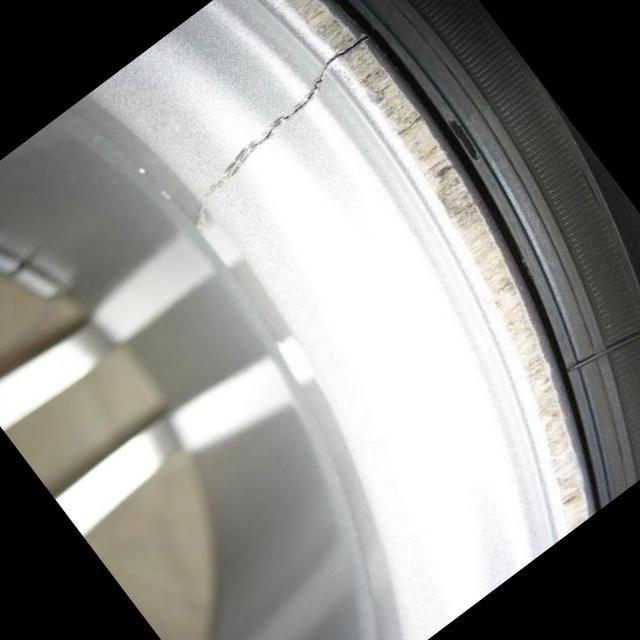defect: (190, 26, 379, 230)
